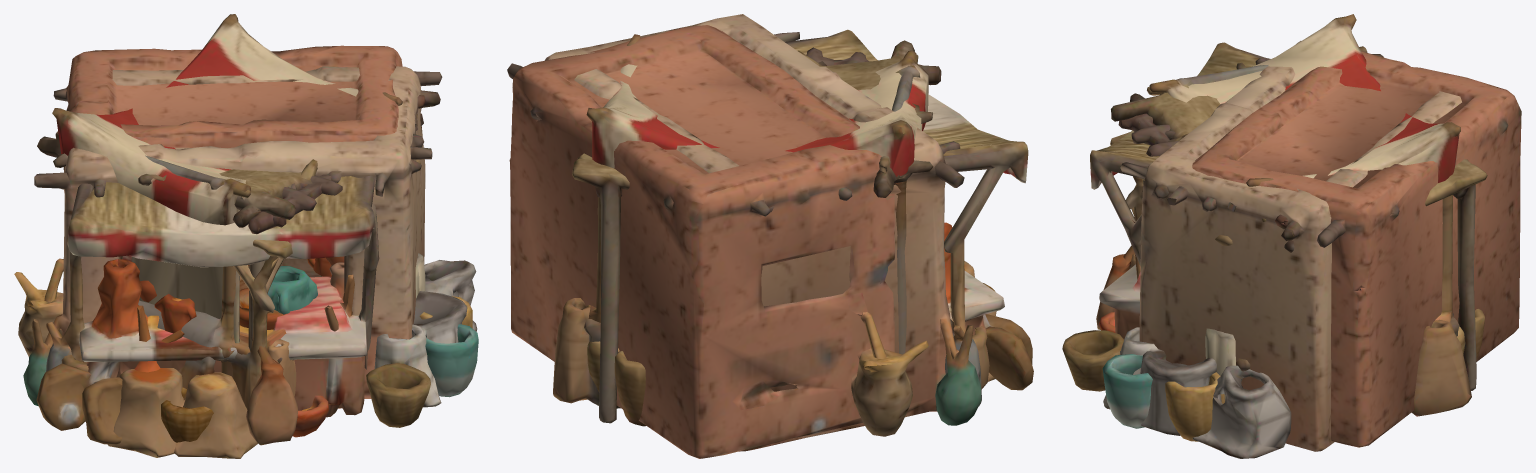
File: stalls.glb
3 views of the same model, side by side, from view 1: azimuth 30°, elevation 25°; view 2: azimuth 150°, elevation 25°; view 3: azimuth 270°, elevation 25° (orthographic). The views are drawn at different scales.
Visible parts, largest first — view 1: part4, part5, part3, part0, part1, part2; view 2: part4, part5, part1, part3, part0, part2; view 3: part4, part5, part1, part3, part2, part0.
Boxes of the visible parts, x1=… form: part4: x1=14, y1=45, x2=477, y2=444; part5: x1=23, y1=66, x2=478, y2=406; part3: x1=52, y1=14, x2=425, y2=400; part0: x1=107, y1=159, x2=420, y2=458; part1: x1=37, y1=113, x2=472, y2=445; part2: x1=131, y1=174, x2=353, y2=343; part4: x1=507, y1=25, x2=1033, y2=458; part5: x1=545, y1=14, x2=981, y2=451; part1: x1=553, y1=40, x2=995, y2=423; part3: x1=586, y1=34, x2=928, y2=354; part0: x1=614, y1=261, x2=996, y2=426; part2: x1=587, y1=47, x2=930, y2=408; part4: x1=1062, y1=42, x2=1521, y2=458; part5: x1=1102, y1=41, x2=1461, y2=451; part1: x1=1096, y1=46, x2=1487, y2=441; part3: x1=1131, y1=14, x2=1460, y2=401; part2: x1=1118, y1=113, x2=1465, y2=354; part0: x1=1099, y1=132, x2=1484, y2=360.
Bounding box in the file's own units: 0.3714 × 0.2226 × 0.3378.
Materials: 1 (1 with a texture image).
